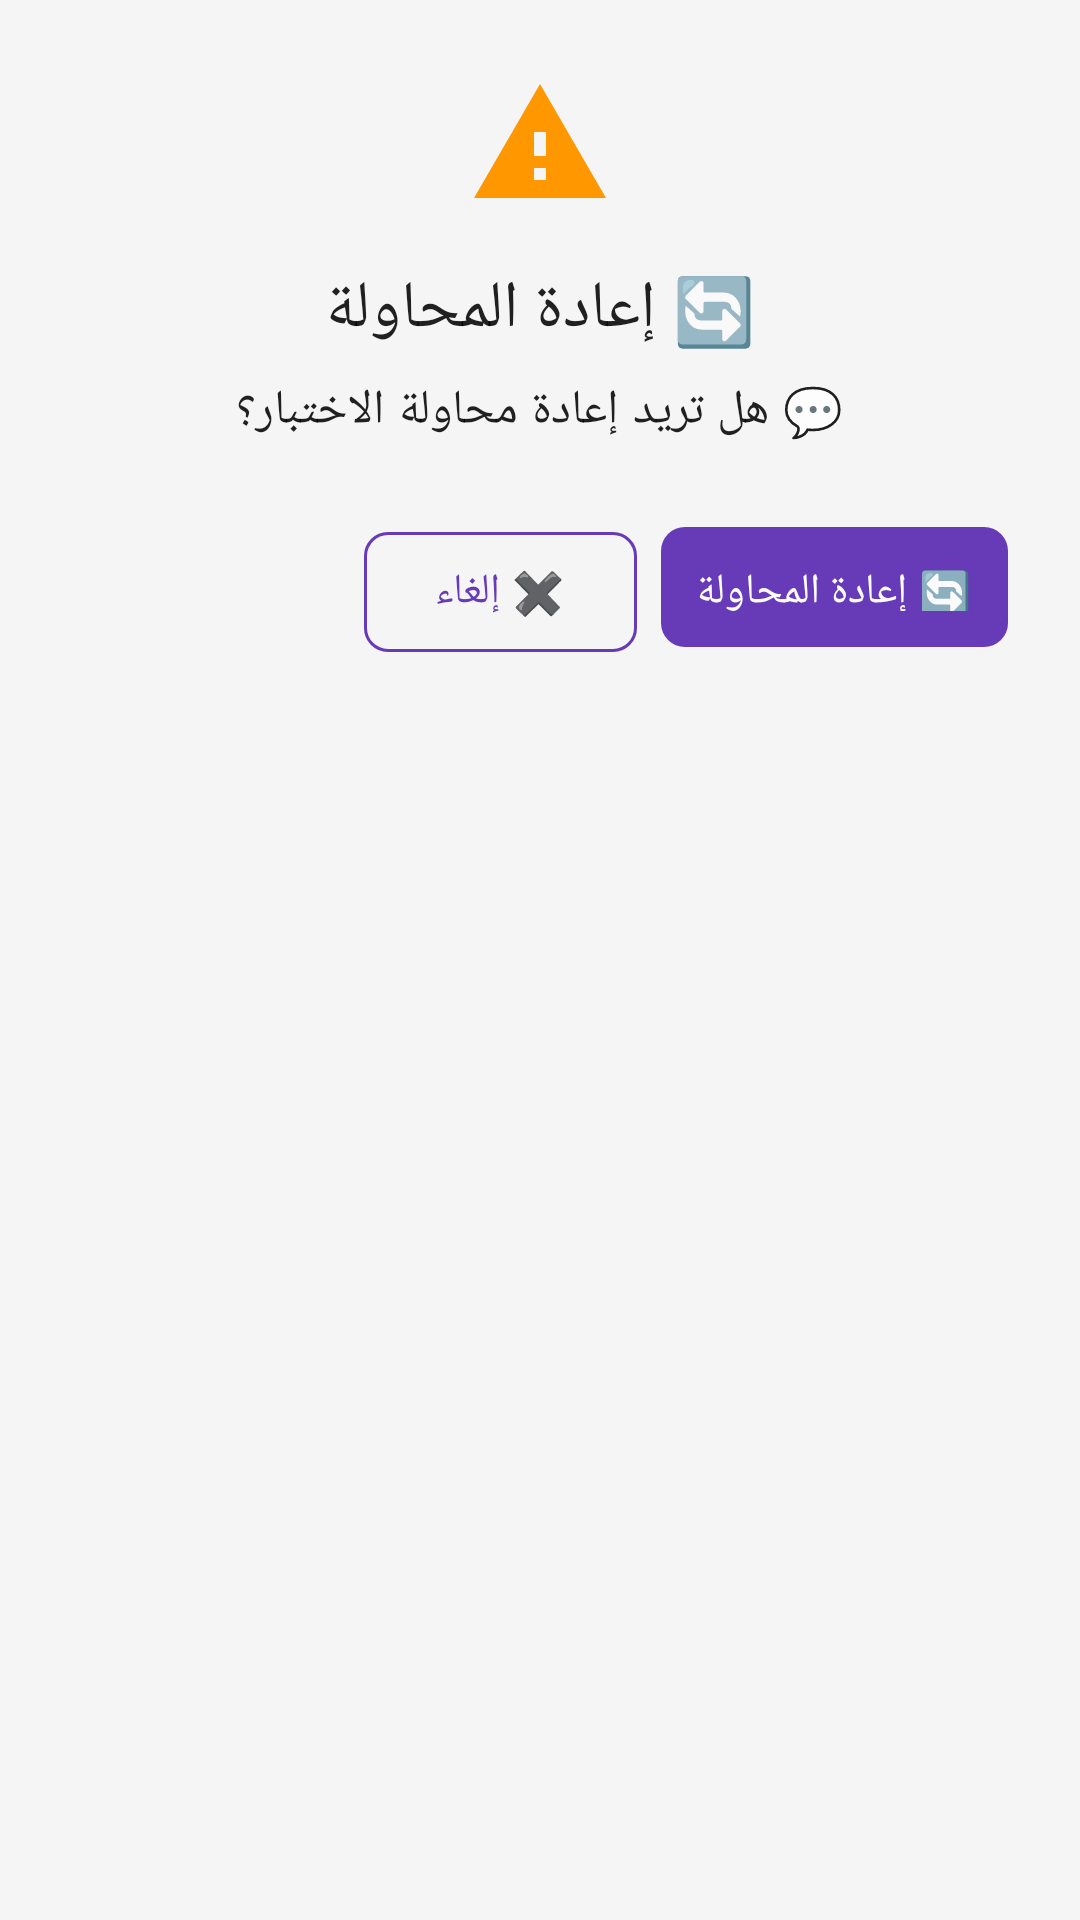

Icons on this 1080*1920 Android screen, each with the point to tap as [x,y]:
warning: [540,141]
